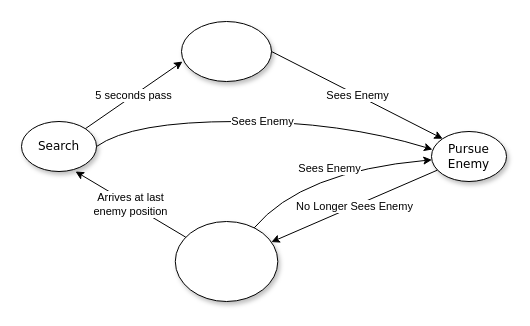
Some shapes in this 530 by 326 pixel diagram are drawn without their labels. Here are the shapes that lost their labels. From the top down, the centre of each, then its label:
At (x=227, y=52): "Follow Patrol Path".
At (x=227, y=262): "Go To Last Enemy Position".
